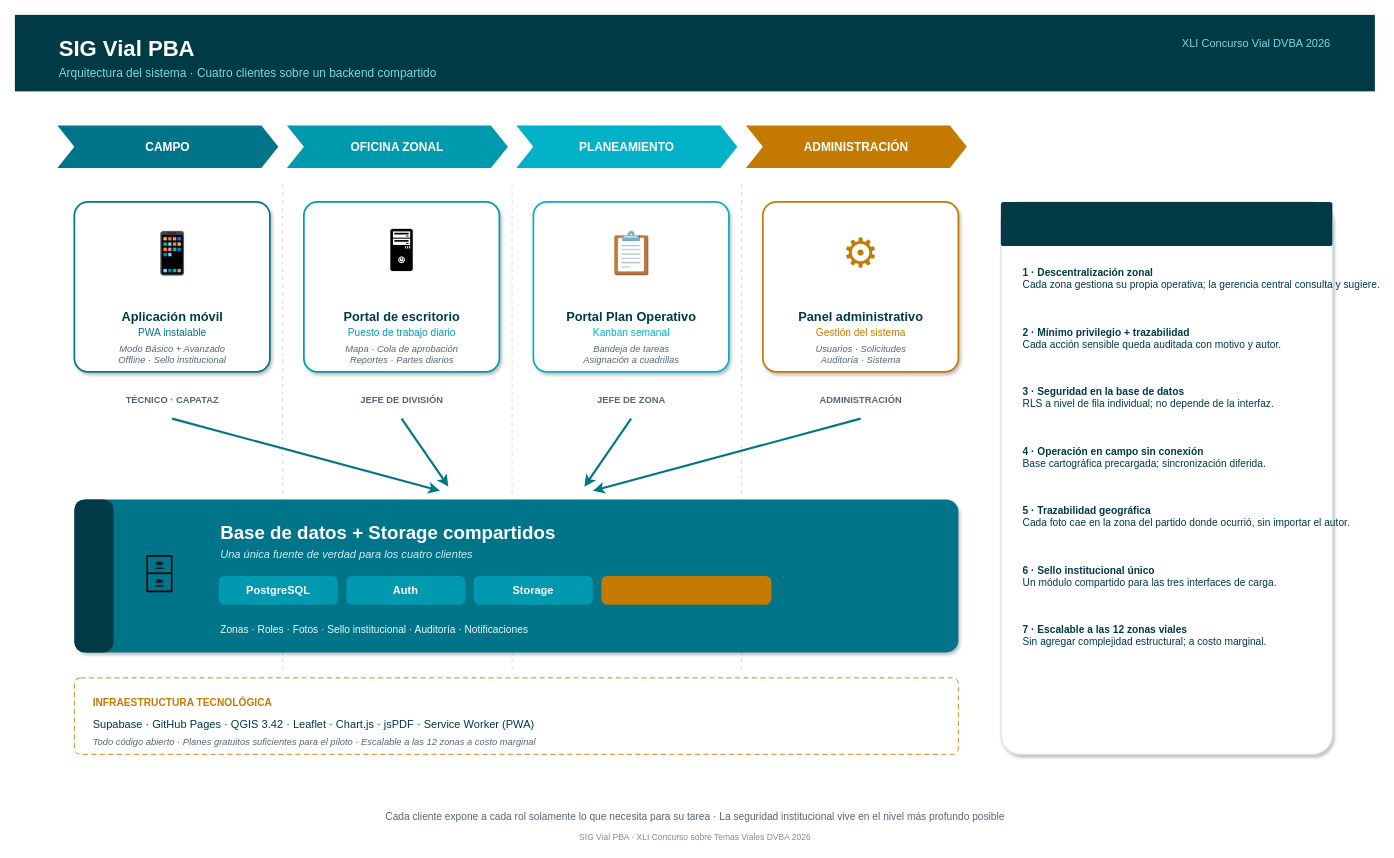
Image size: 1394x858. Some labels were removed from this diagram. The centre of each missing label's shape, as x and y in pixels:
"BACKEND" goes at pixel 93 575.
"CARACTERÍSTICAS DEL SISTEMA" goes at pixel 1166 223.
"Row-Level Security" goes at pixel 686 589.
